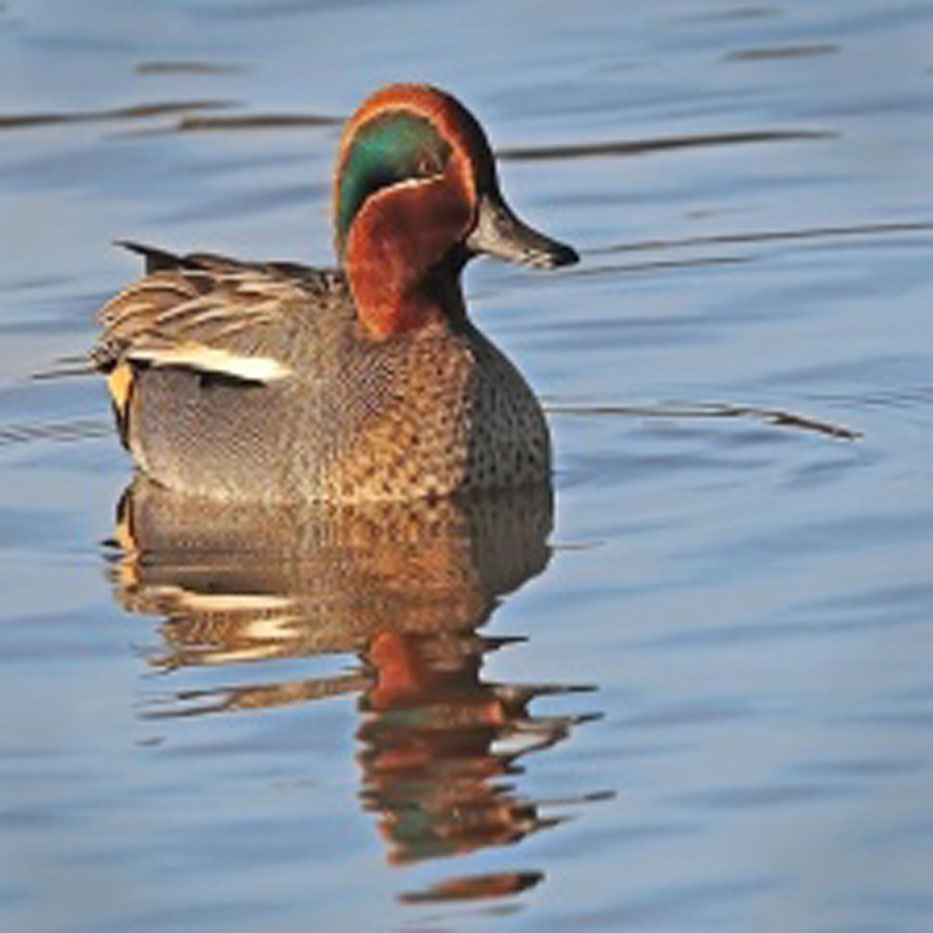Mencari Makan di Lumpur: (476, 184, 608, 294)
